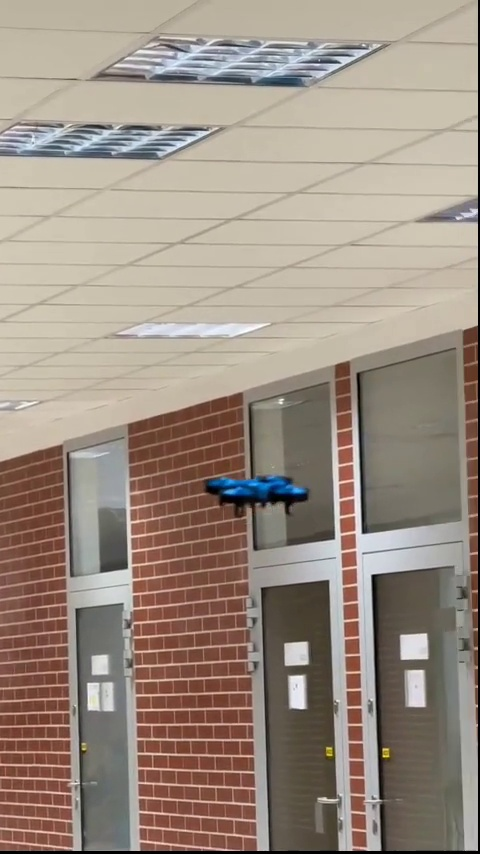drone: (206, 468, 298, 514)
